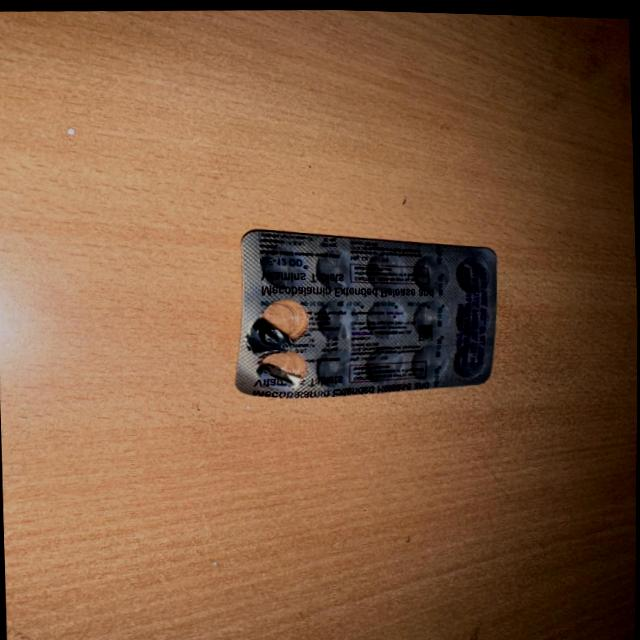medicine: (207, 210, 522, 405)
